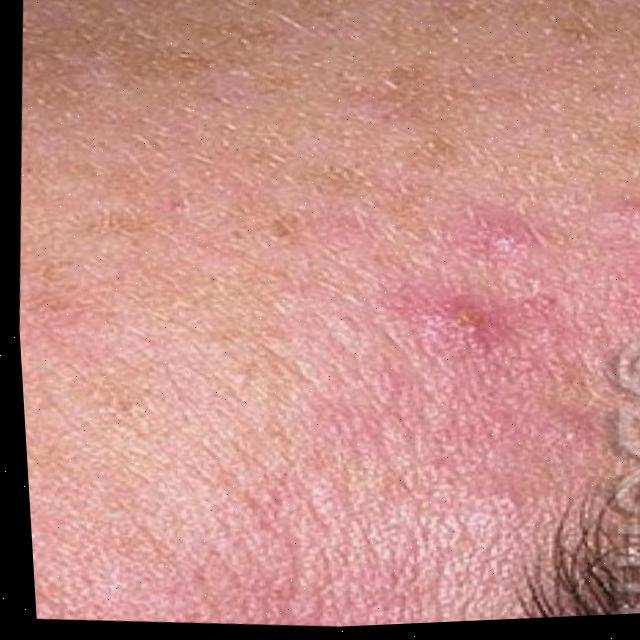Rosacea: (357, 181, 618, 513)
